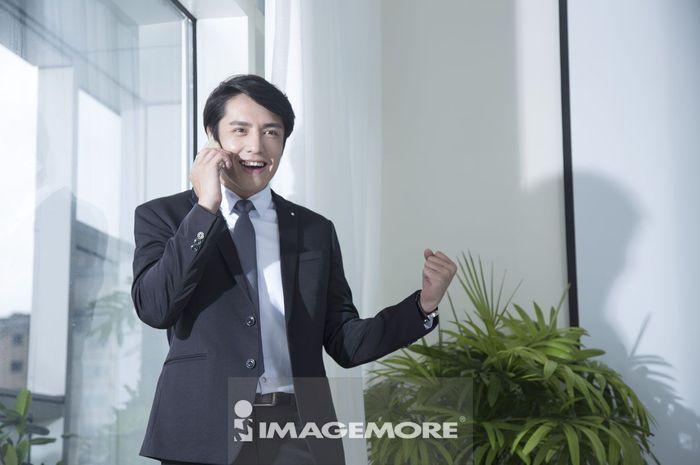talk: (187, 115, 284, 212)
